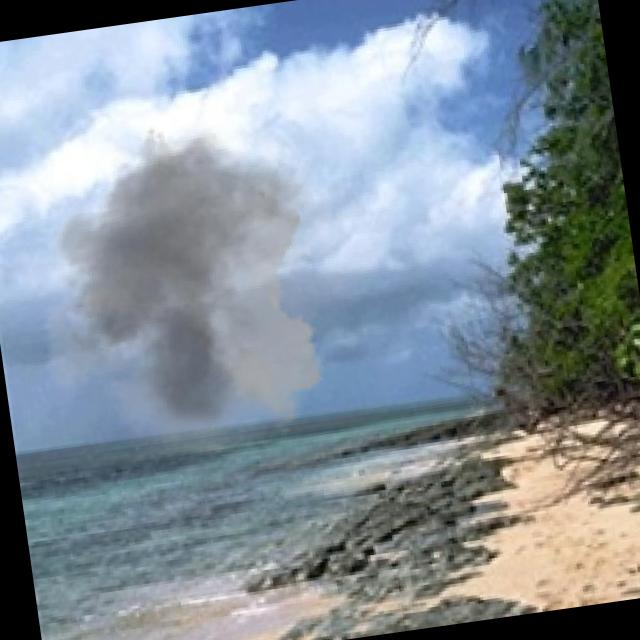Smoke: (0, 87, 405, 480)
